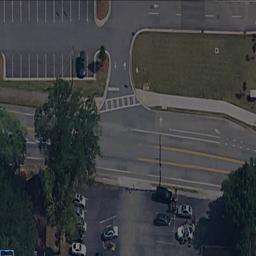Car: (70, 193, 88, 255), (176, 224, 195, 242), (77, 49, 89, 77), (154, 186, 173, 201), (102, 238, 118, 253), (174, 204, 193, 216), (103, 224, 119, 238), (155, 212, 173, 224)
Crosswalk: (97, 95, 141, 114)
Double Solid Yellow Line: (137, 143, 248, 163), (135, 156, 232, 173)
Solid White Line: (130, 126, 221, 144), (166, 127, 219, 137)
Stopline: (108, 87, 121, 91)
White Dashed Line: (143, 10, 250, 25), (223, 143, 255, 151)
